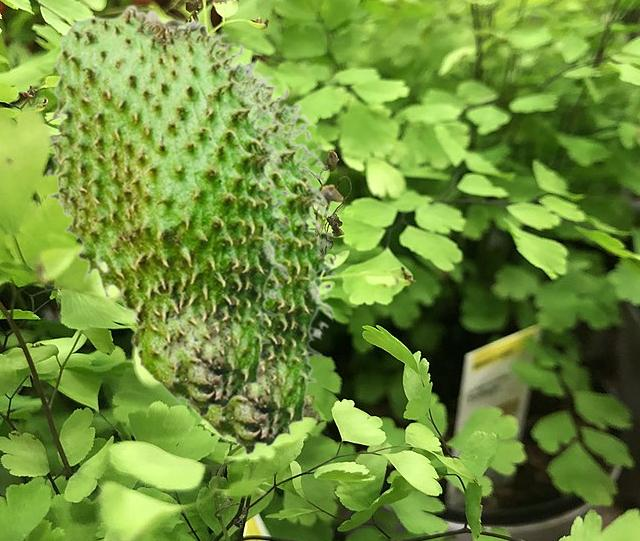guyabano: (45, 3, 293, 417), (127, 58, 338, 455)
